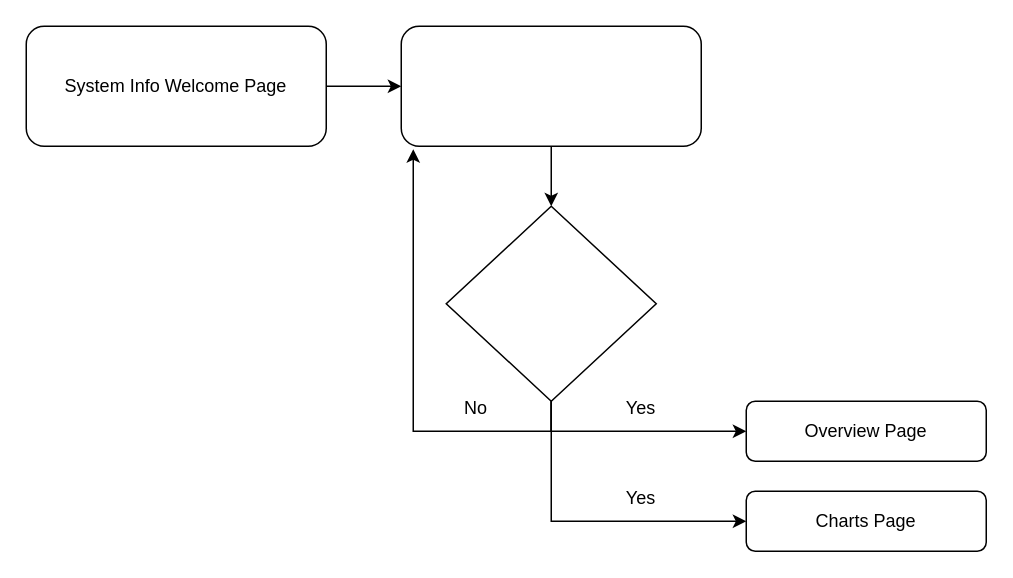
The diagram is 1013 pixels wide and 578 high, and some of its shapes have lost their labels. The box of each missing label's shape, as (x1, y1, x2, y2) in pixels:
Is the user identity verified?: (445, 205, 656, 401)
Login Page: (400, 25, 701, 146)
